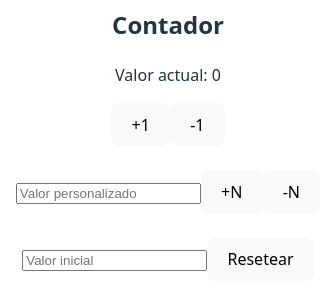
incrementa en 1 al hacer clic en "+1"
The width and height of the screenshot is (320, 288).
Click the button "+1".
click(141, 125)  # box [111,103,170,146]
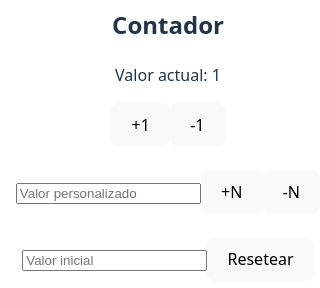
Expected: the text "Valor actual: 1" is shown, [115,64,221,86]
